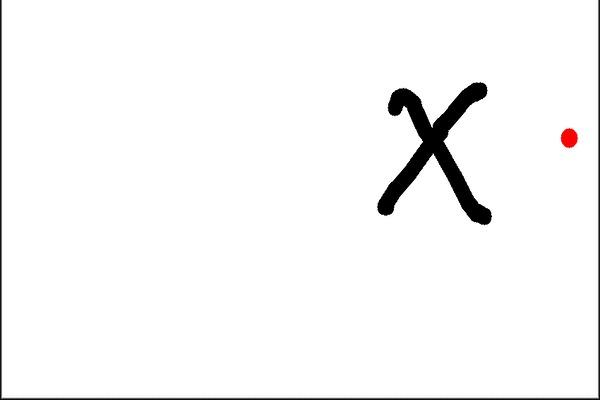X: (359, 69, 513, 240)
